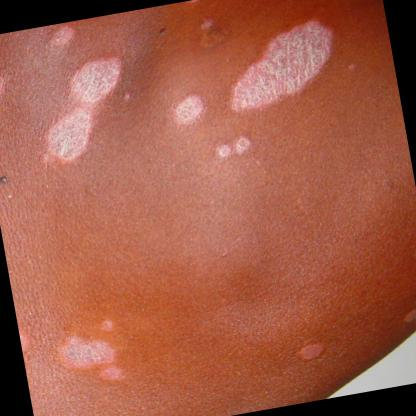Psoriasis: (212, 5, 374, 120), (18, 47, 145, 171), (44, 311, 130, 399), (164, 86, 210, 134), (204, 134, 260, 164), (42, 20, 83, 54), (0, 59, 15, 104)
